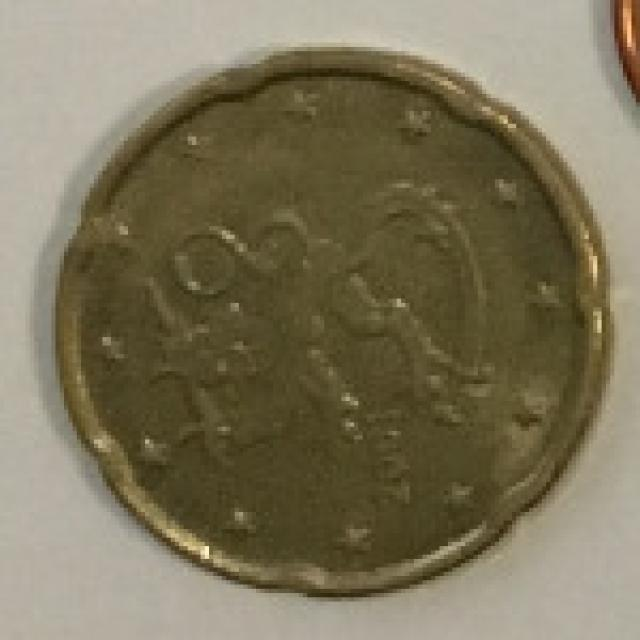20c: (22, 26, 628, 610)
